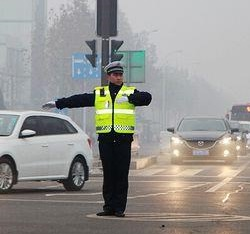person: (41, 60, 154, 221)
